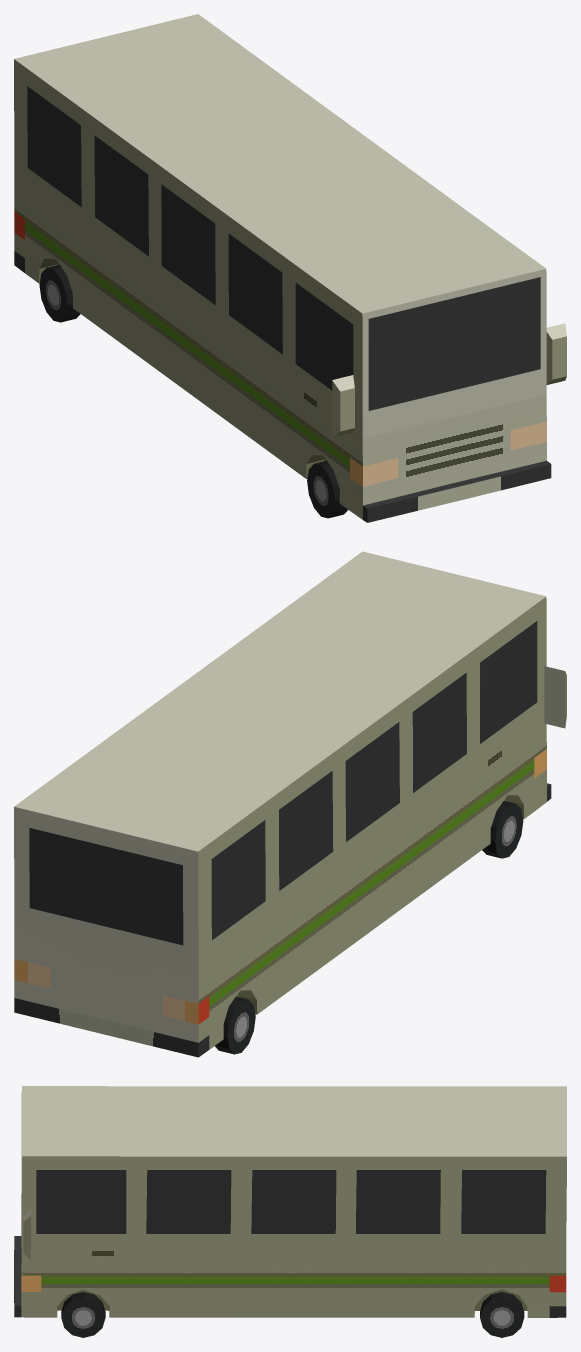
File: bus_seperate_brown.gltf
3 views of the same model, one above another, from view 1: azimuth 30°, elevation 25°; view 2: azimuth 150°, elevation 25°; view 3: azimuth 270°, elevation 25° (orthographic). The views are drawn at different scales.
Parts seen in each view (by area): view 1: bus_seperate_brown, bus_rr_wheel_mesh, bus_fr_wheel_mesh; view 2: bus_seperate_brown, bus_fr_wheel_mesh, bus_rr_wheel_mesh; view 3: bus_seperate_brown, bus_fl_wheel_mesh, bus_rl_wheel_mesh.
Part boxes in pixels (bbox=[...]): bus_seperate_brown: bbox=[14, 14, 566, 522]; bus_rr_wheel_mesh: bbox=[39, 264, 80, 322]; bus_fr_wheel_mesh: bbox=[307, 460, 347, 518]; bus_seperate_brown: bbox=[14, 551, 566, 1057]; bus_fr_wheel_mesh: bbox=[482, 801, 523, 858]; bus_rr_wheel_mesh: bbox=[215, 996, 255, 1054]; bus_seperate_brown: bbox=[14, 1086, 566, 1317]; bus_fl_wheel_mesh: bbox=[61, 1292, 105, 1337]; bus_rl_wheel_mesh: bbox=[480, 1292, 524, 1337].
Bounding box in the file's own units: 3.44 × 3.26 × 9.04.
1 material, 1 textured.
